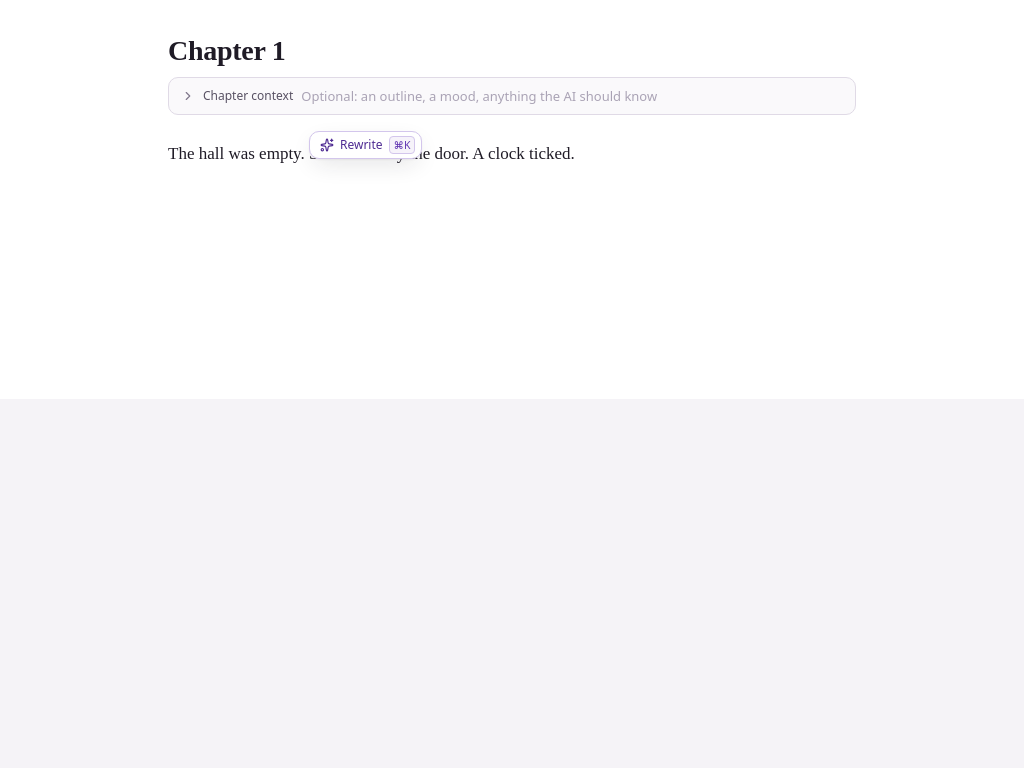
selection rewrite flow › discard leaves the document untouched
Click the button "Rewrite ⌘K".
click(366, 145)  # box [309,131,422,159]
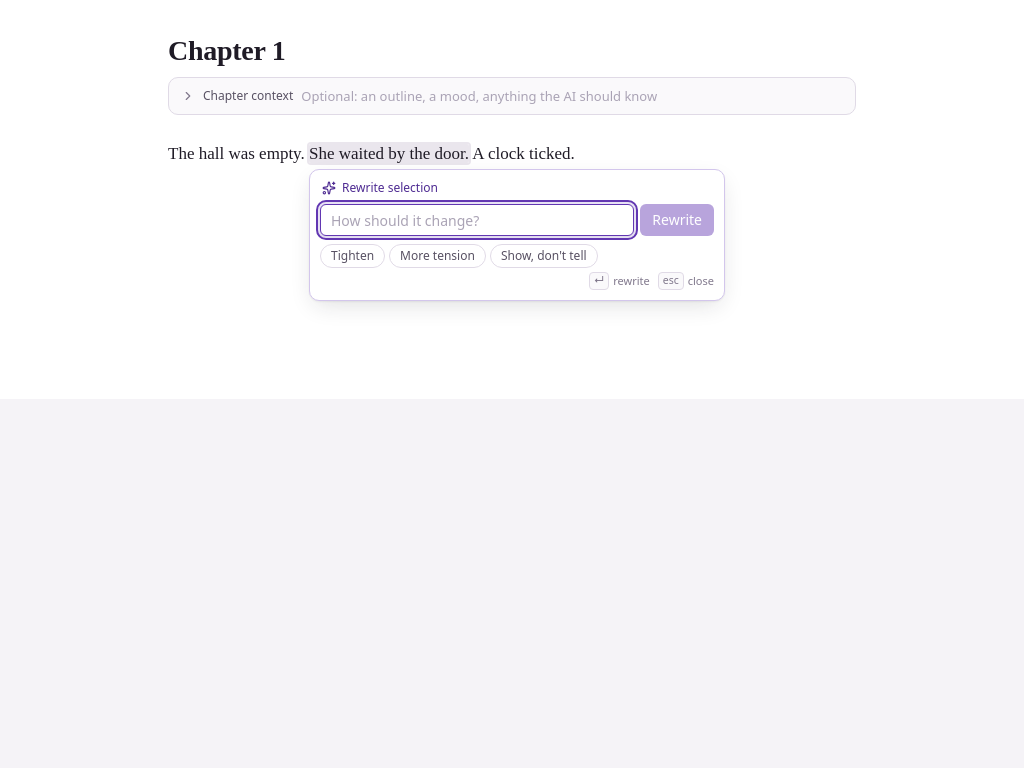
Type "tighten" into the field named "Rewrite instruction".
click(477, 220); type("tighten")  # box [320,204,634,236]
Then press Enter
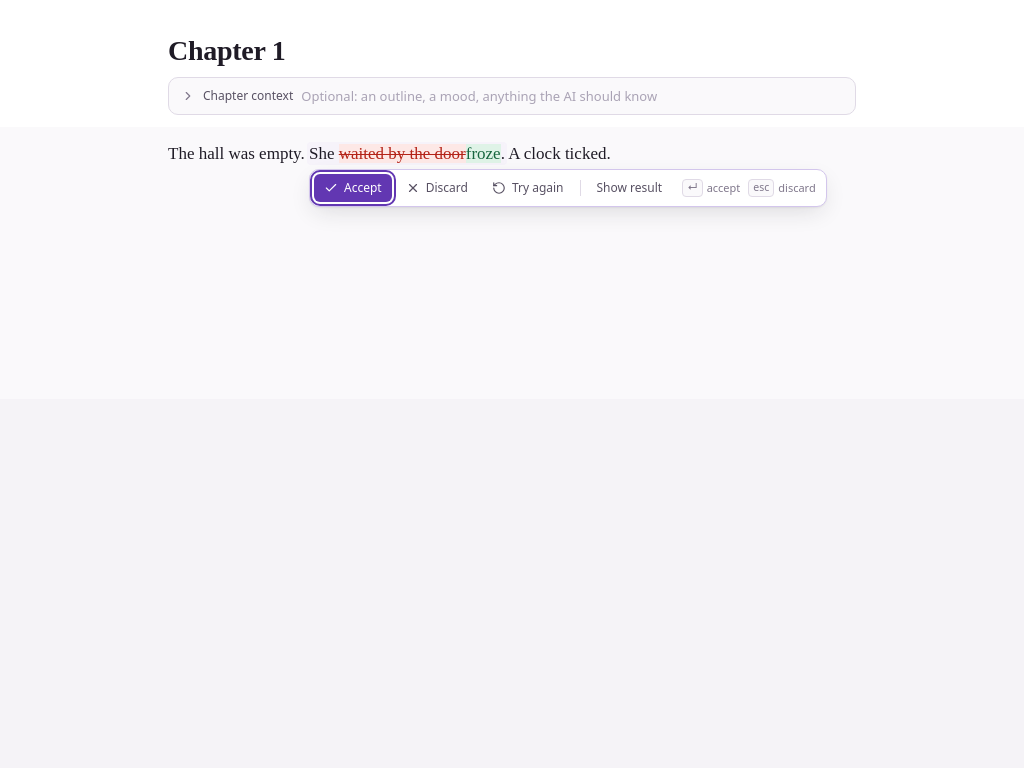
Click the button "Discard".
click(437, 188)  # box [396,174,478,202]
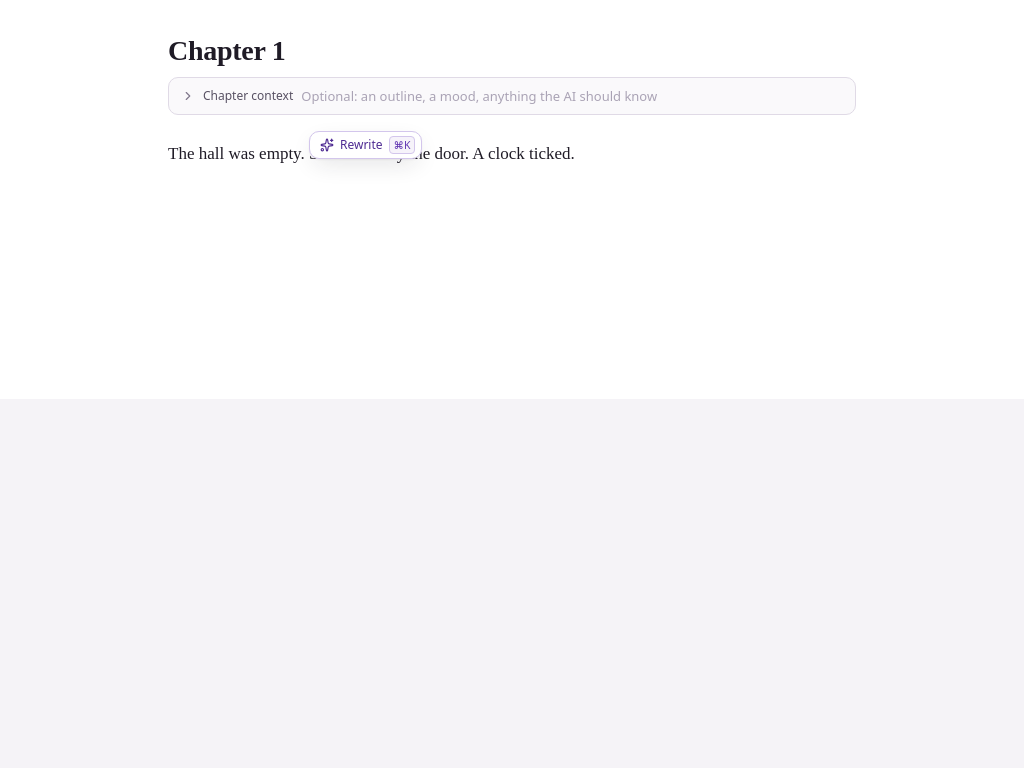
Result: the text box labelled "The hall was empty. She waited by the door. A clock ticked." is shown at [168,144,575,163]
